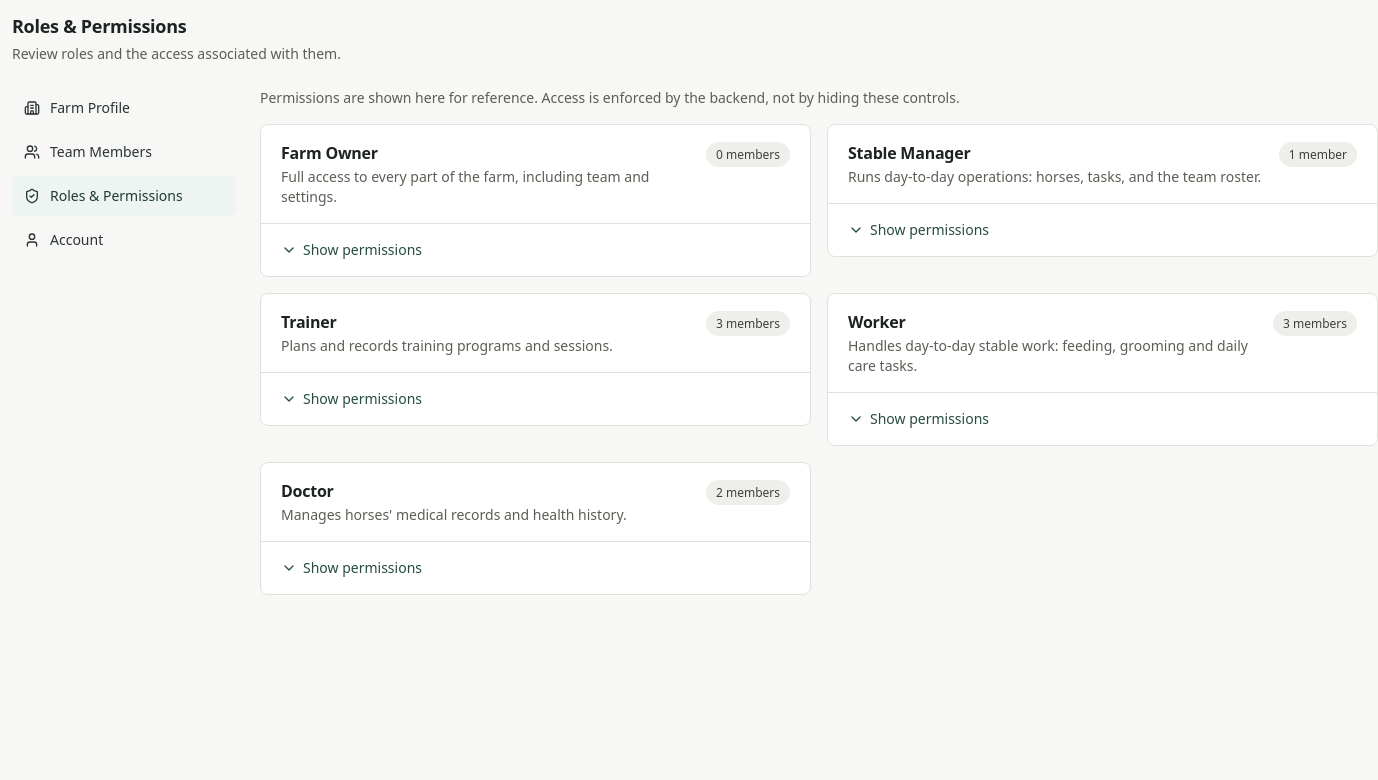
Test case: RolesPage › renders all five existing farm roles with member counts and expandable permissions
Check: the heading "Farm Owner" is shown, box [281, 142, 378, 164]
Check: the heading "Stable Manager" is shown, box [848, 142, 970, 164]
Click the button "Show permissions" below "Farm Owner". click: (352, 250)
box: [281, 240, 422, 260]
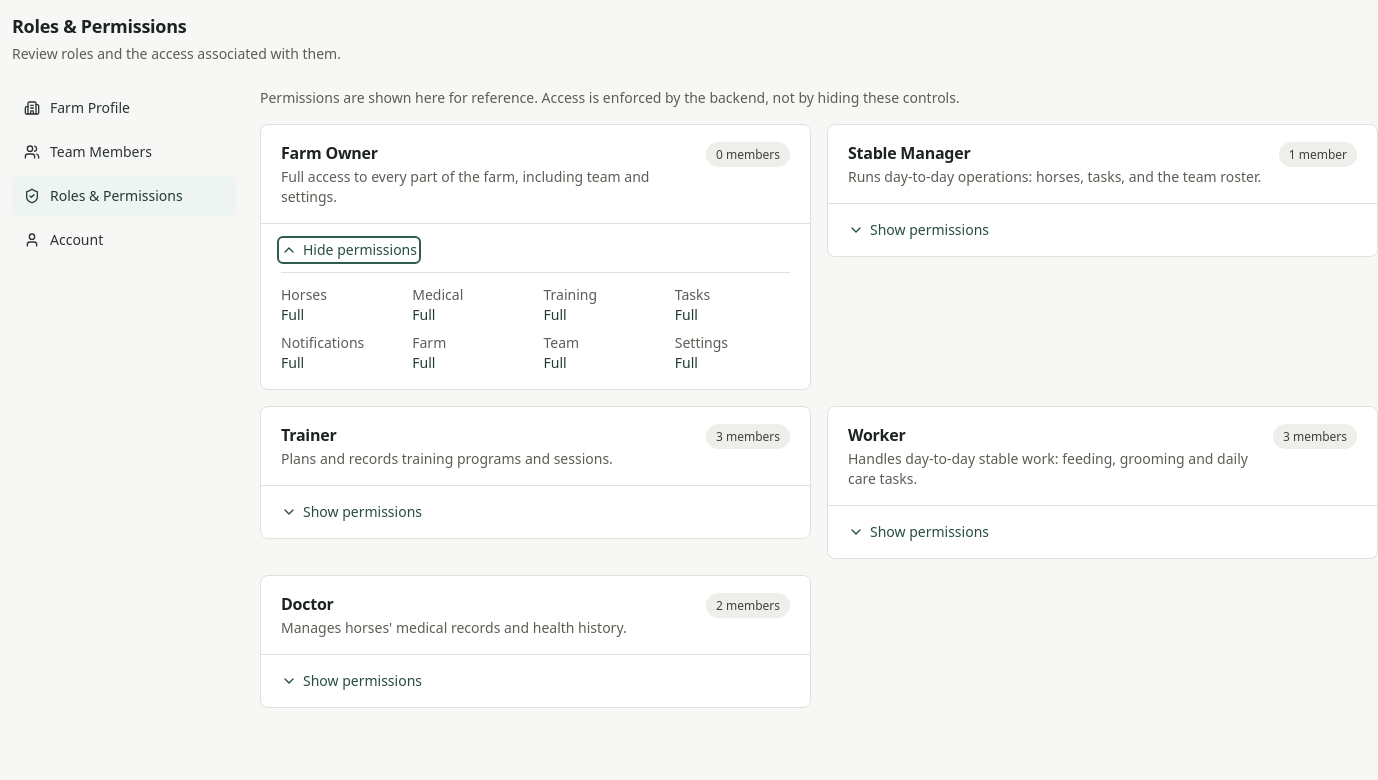
Check: the 1st text "Full" is shown, box [281, 305, 304, 324]
